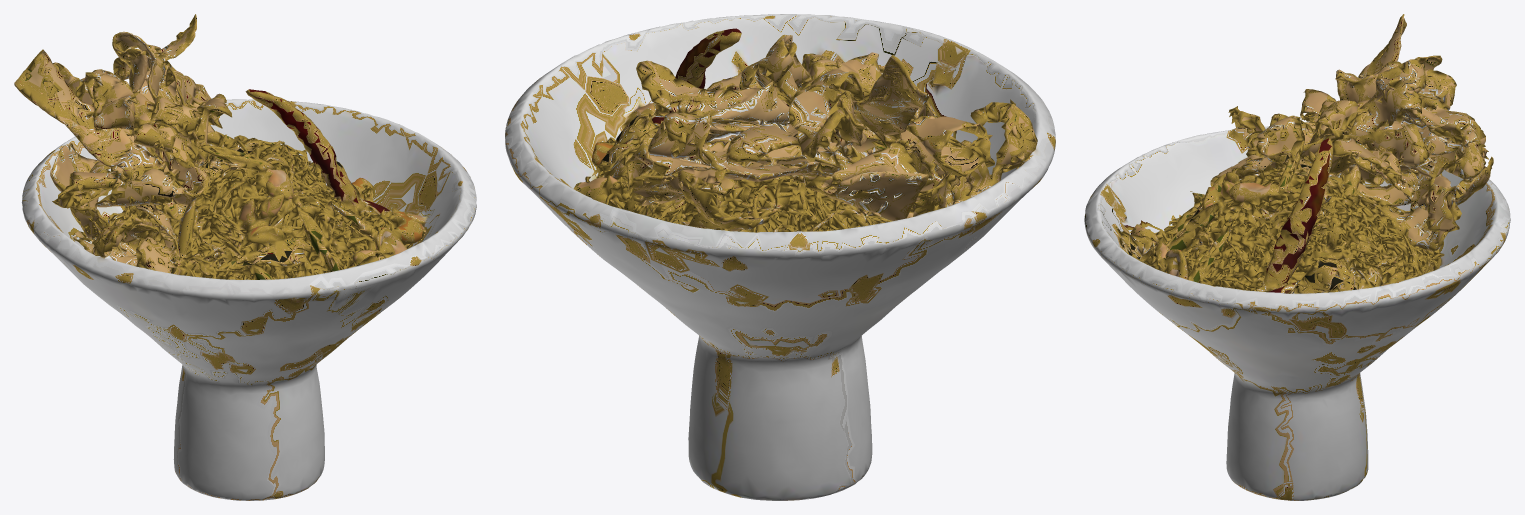
Rendered from Crispy_Chili_Noodle-v1.glb.
3 renders of one model, left to right at view 1: azimuth 30°, elevation 25°; view 2: azimuth 150°, elevation 25°; view 3: azimuth 270°, elevation 25°, orthographic. The views are drawn at different scales.
Visible parts, largest first — view 1: mesh_node; view 2: mesh_node; view 3: mesh_node.
Boxes of the visible parts, <box> form: mesh_node: <box>14,14,476,500</box>; mesh_node: <box>505,14,1055,500</box>; mesh_node: <box>1084,14,1510,500</box>.
Bounding box in the file's own units: 1.88 × 1.9 × 1.88.
Materials: 1 (1 with a texture image).
